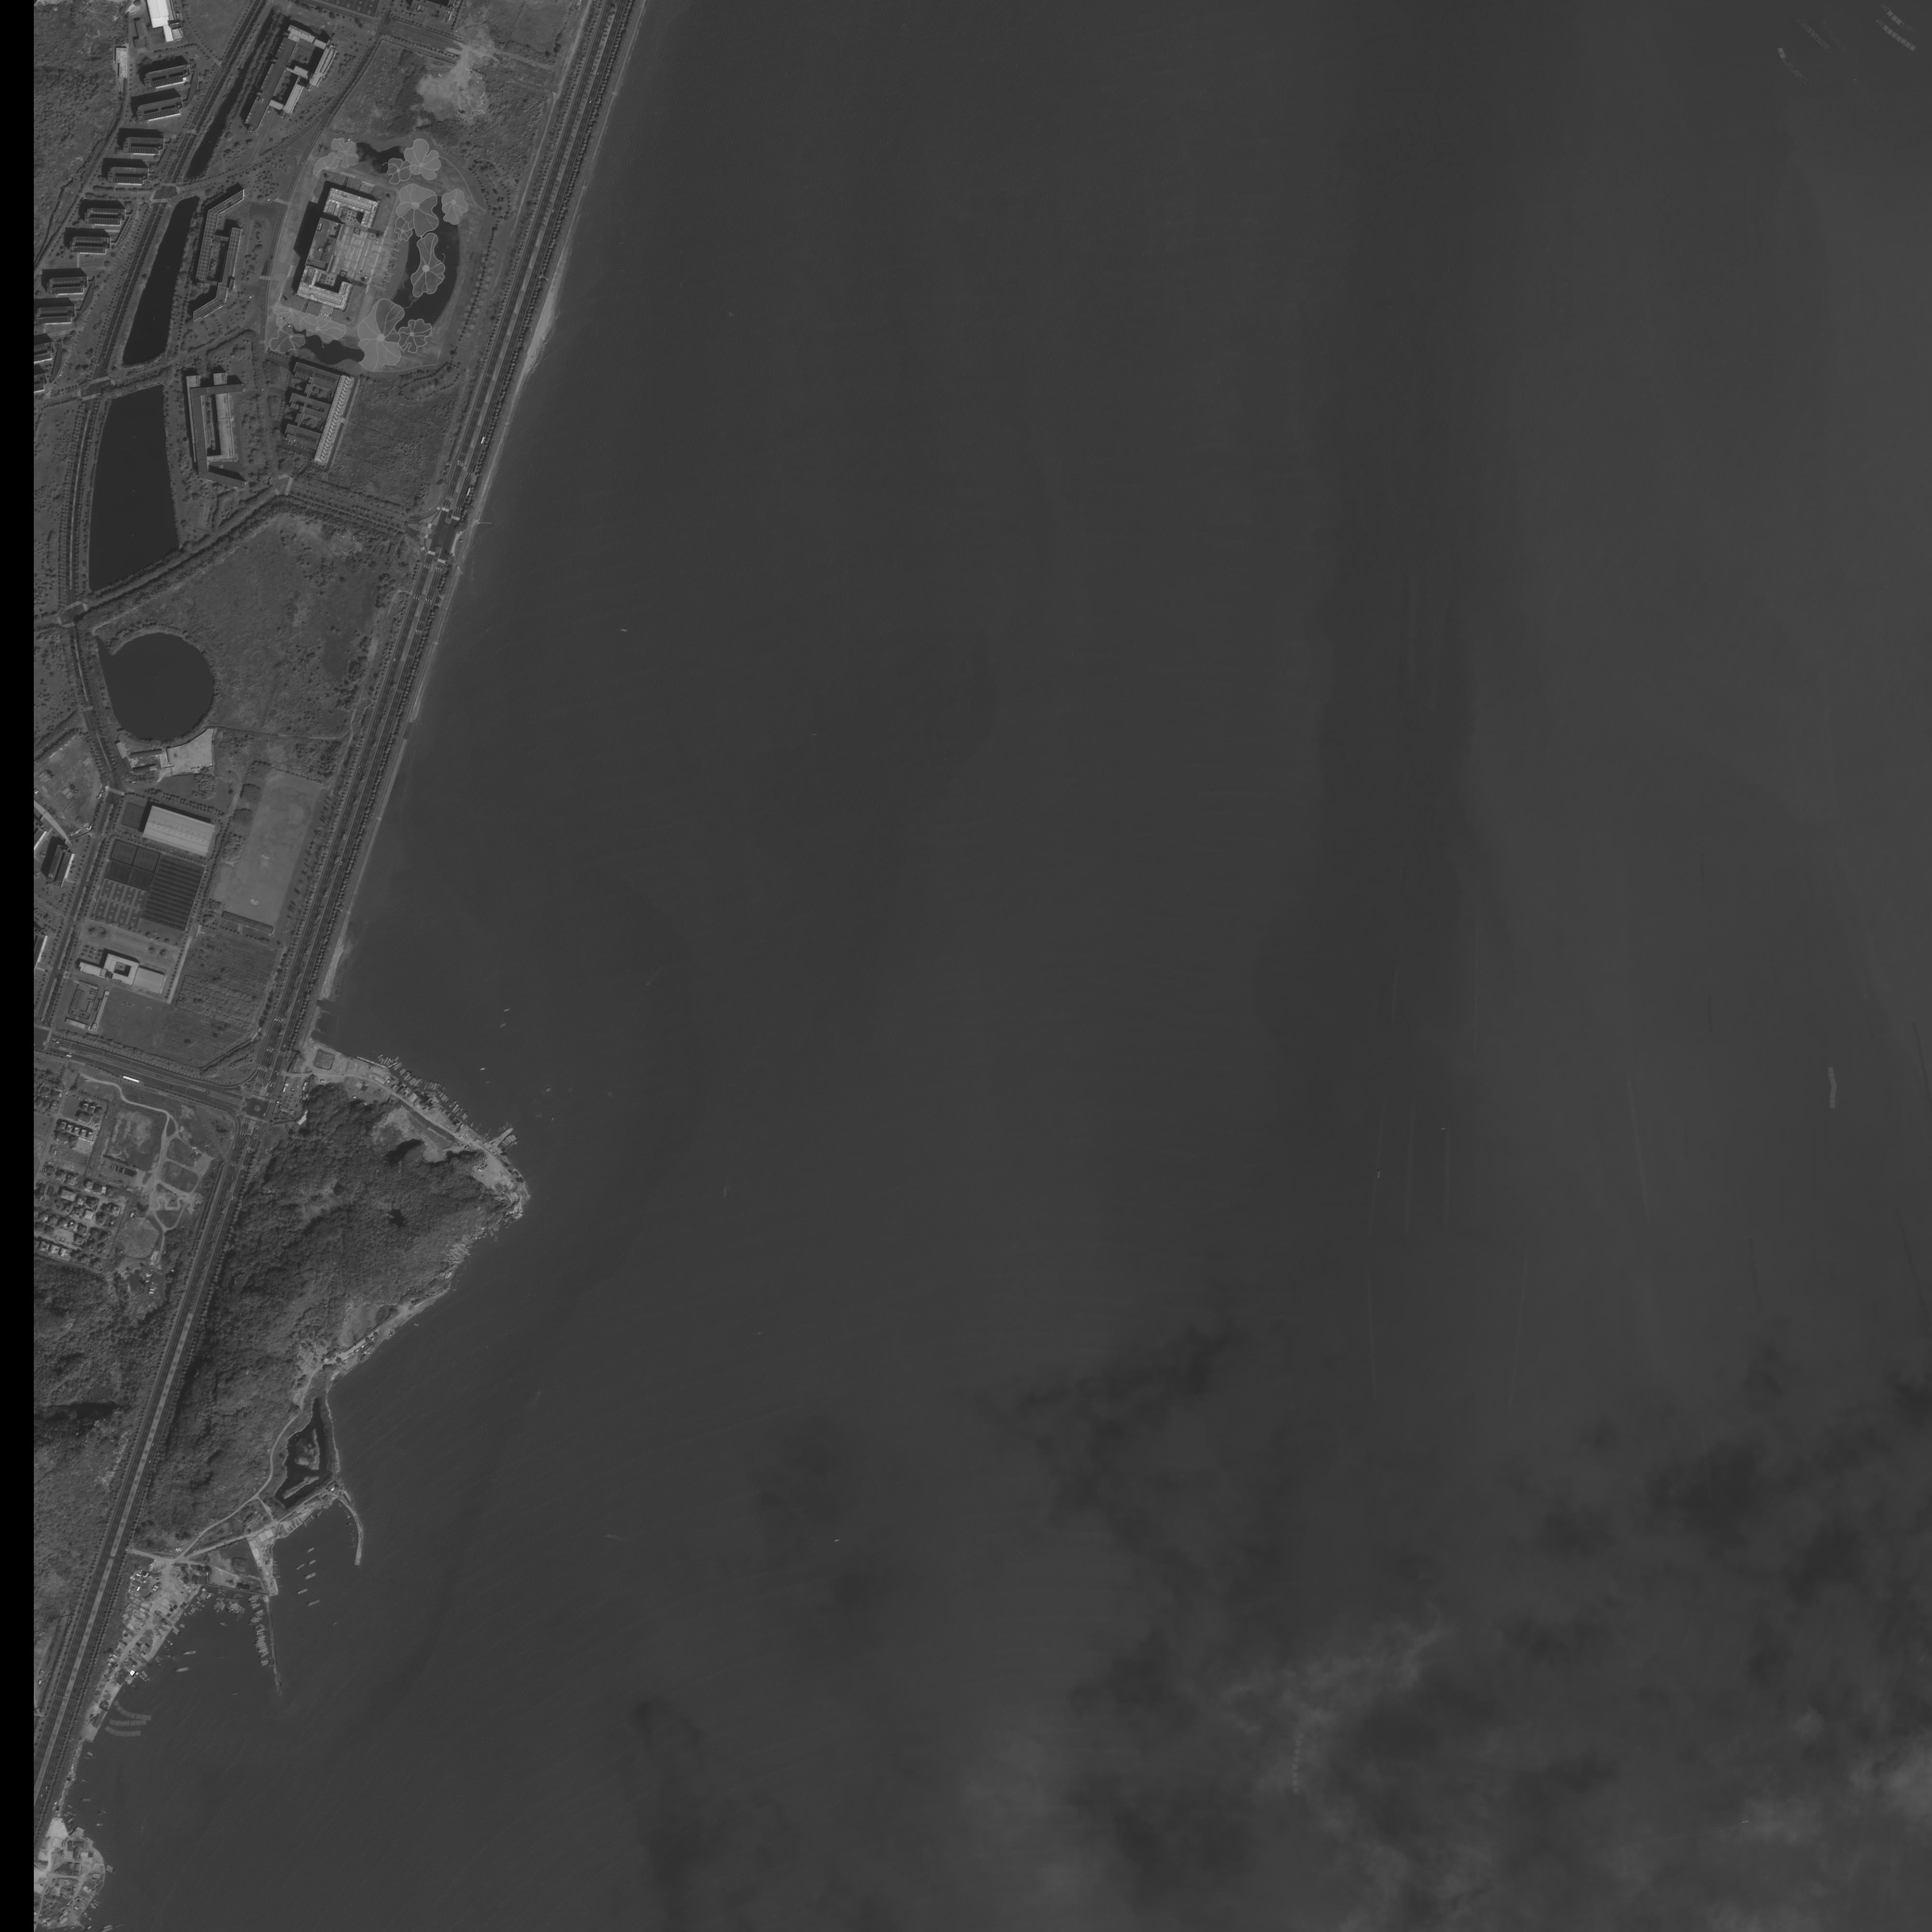harbor: (338, 1490, 372, 1566), (264, 1599, 283, 1693), (488, 1123, 515, 1148)
ship: (140, 1670, 150, 1681), (393, 1062, 403, 1072), (172, 1626, 182, 1637), (306, 1573, 317, 1582), (308, 1599, 320, 1606), (140, 1674, 149, 1683), (260, 1651, 269, 1660), (308, 1557, 317, 1566), (403, 1072, 412, 1081), (295, 1562, 304, 1571), (154, 1658, 163, 1667), (414, 1077, 421, 1088), (175, 1667, 189, 1672), (182, 1651, 196, 1656), (451, 1104, 458, 1115), (255, 1640, 264, 1647), (258, 1647, 267, 1654), (257, 1642, 265, 1649), (456, 1108, 464, 1116), (255, 1633, 264, 1640), (172, 1629, 180, 1637), (297, 1589, 308, 1594), (255, 1638, 265, 1644), (253, 1610, 264, 1615), (248, 1596, 258, 1601), (410, 1079, 418, 1086), (423, 1083, 430, 1090), (442, 1095, 449, 1102), (409, 1077, 416, 1085), (449, 1100, 456, 1108), (253, 1603, 260, 1610), (260, 1661, 269, 1667), (258, 1660, 267, 1665), (257, 1635, 265, 1640), (432, 1083, 437, 1092), (400, 1069, 405, 1077), (257, 1629, 265, 1635), (255, 1612, 264, 1617), (248, 1603, 257, 1608), (260, 1645, 267, 1651), (462, 1111, 467, 1118), (464, 1115, 469, 1122), (430, 1083, 435, 1090), (435, 1083, 441, 1090), (441, 1093, 446, 1100), (257, 1631, 264, 1637), (251, 1617, 262, 1621), (258, 1614, 265, 1619), (219, 1622, 228, 1626), (428, 1081, 432, 1090), (251, 1594, 260, 1598), (249, 1599, 257, 1603), (262, 1651, 267, 1654)
